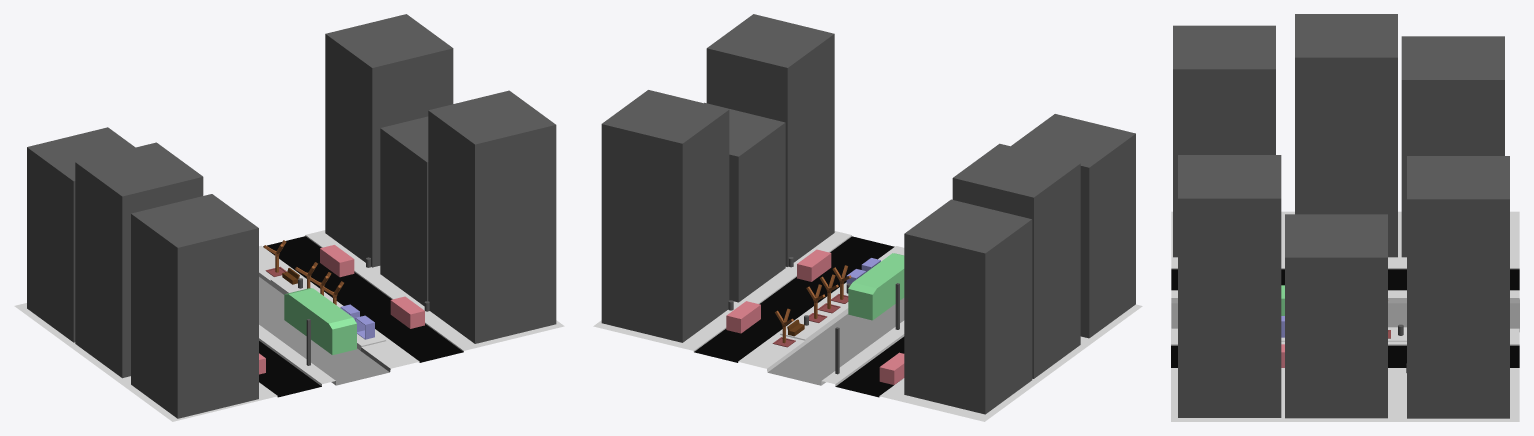
Rendered from blocking.fbx.
3 views of the same model, side by side, from view 1: azimuth 30°, elevation 25°; view 2: azimuth 150°, elevation 25°; view 3: azimuth 270°, elevation 25° (orthographic). The views are drawn at different scales.
Visible parts, largest first — view 1: Plane.013; view 2: Plane.013; view 3: Plane.013.
Part boxes in pixels (x1,y1,x2,y2): Plane.013: (14,14,564,421); Plane.013: (593,14,1142,421); Plane.013: (1171,14,1519,421).
Bounding box in the file's own units: 3996 × 1986 × 2801.
